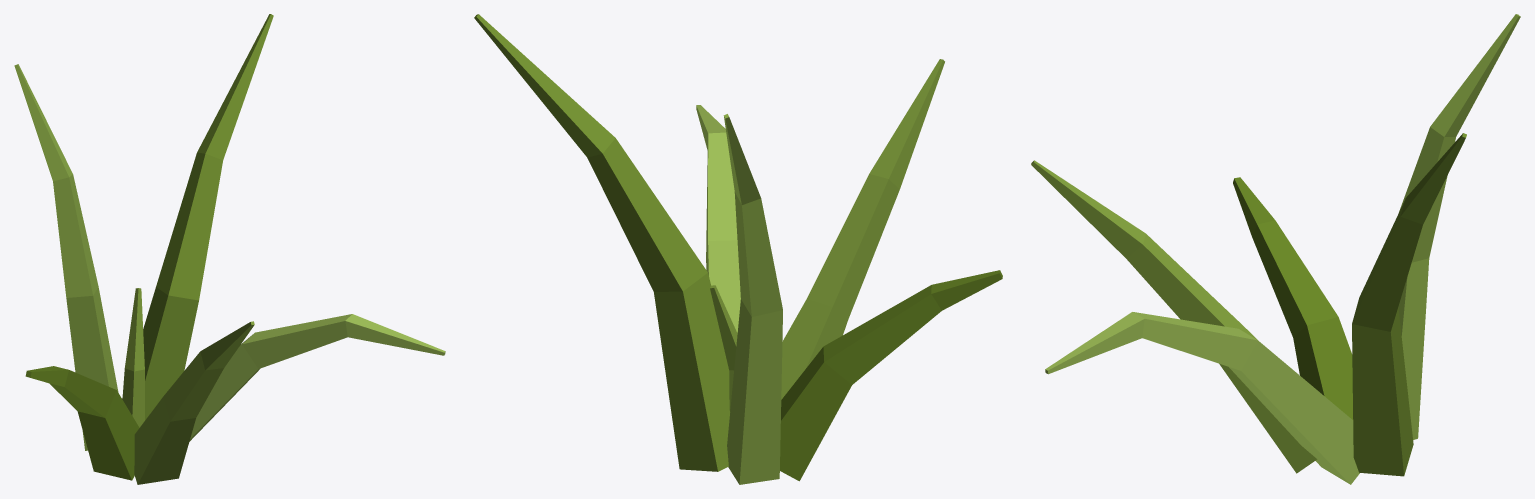
Rendered from Grass_01.fbx.
The picture shows the model from 3 angles, left to right: view 1: azimuth 30°, elevation 25°; view 2: azimuth 150°, elevation 25°; view 3: azimuth 270°, elevation 25°; orthographic projection. The views are drawn at different scales.
Parts seen in each view (by area): view 1: Grass_01; view 2: Grass_01; view 3: Grass_01.
Part boxes in pixels (x1=…): Grass_01: x1=14, y1=14, x2=445, y2=484; Grass_01: x1=474, y1=14, x2=1002, y2=484; Grass_01: x1=1031, y1=14, x2=1520, y2=484.
Size of the model in its own units: 0.5421 by 0.561 by 0.5734.
